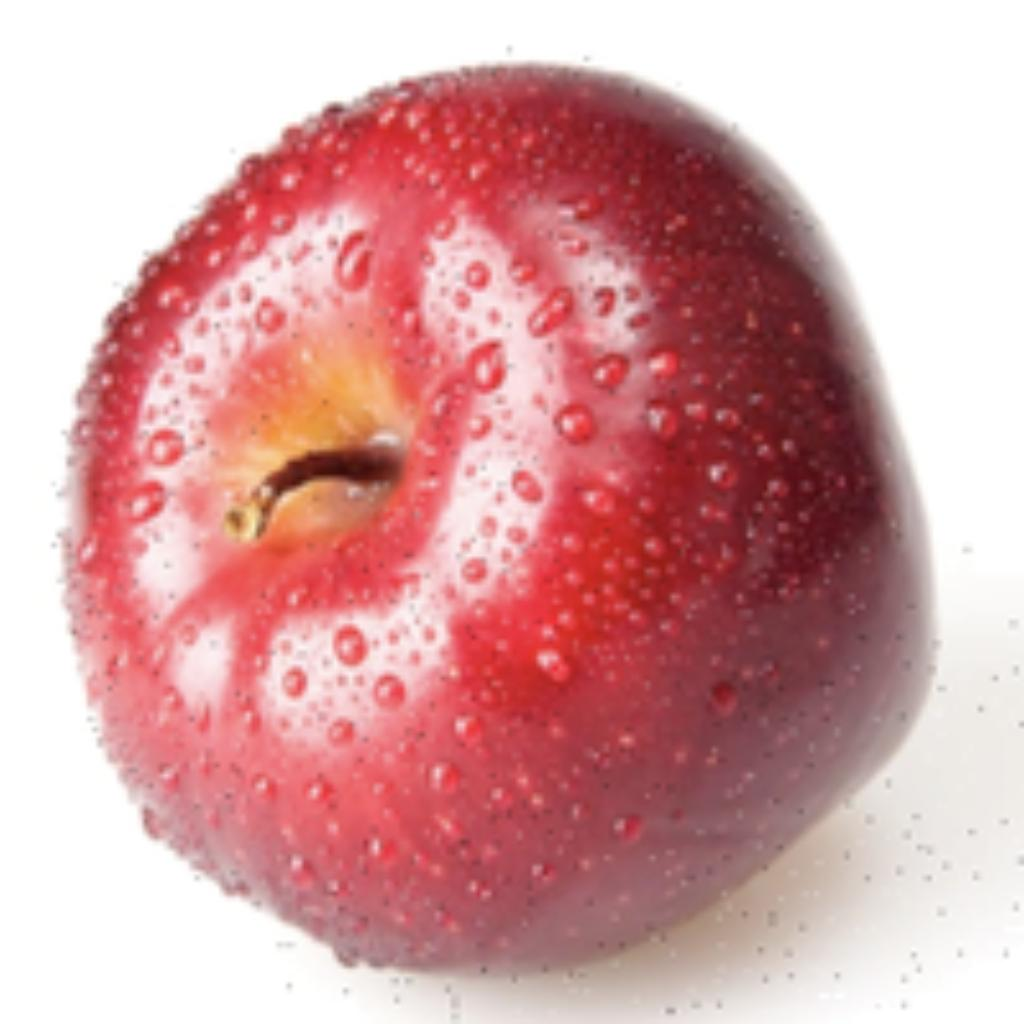apple: (46, 44, 957, 1019)
